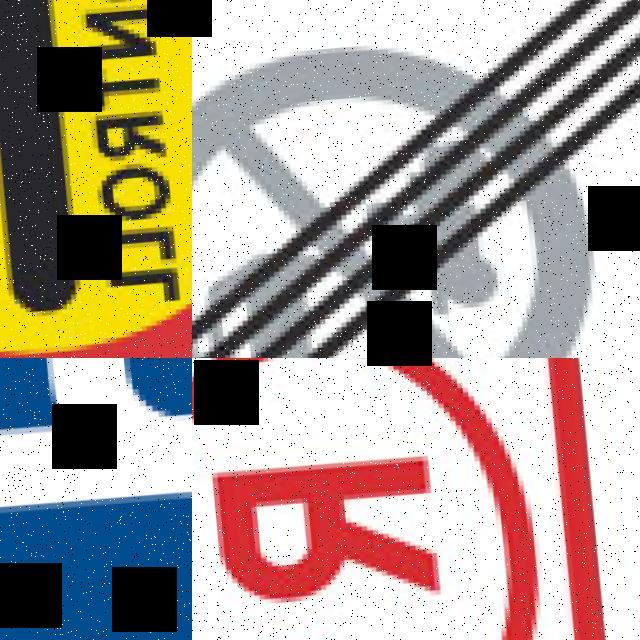105: (192, 358, 625, 640)
111: (192, 0, 640, 358)
116: (0, 0, 192, 358)
Turn left or straight ahead: (0, 358, 192, 640)
